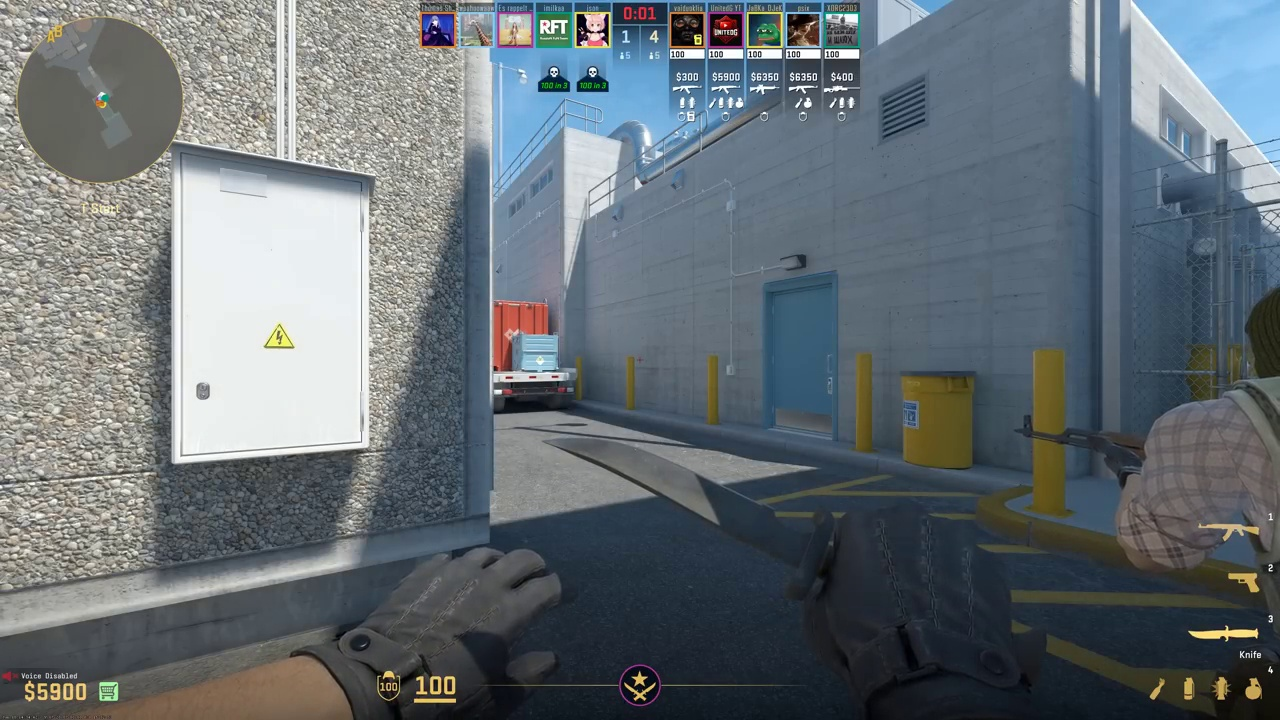Terrorist: (1153, 290, 1280, 715)
